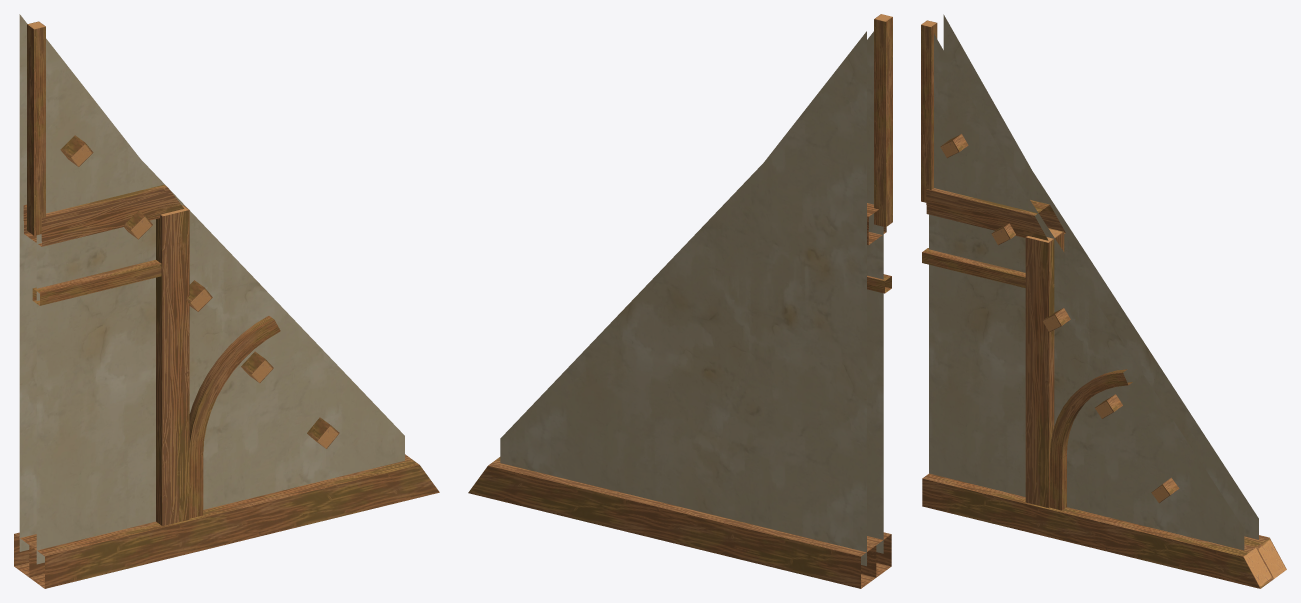
Rendered from Roof_Front_Brick6_Half_R.gltf.
3 renders of one model, left to right at view 1: azimuth 30°, elevation 25°; view 2: azimuth 150°, elevation 25°; view 3: azimuth 330°, elevation 25°, orthographic. The views are drawn at different scales.
Visible parts, largest first — view 1: Roof_Front_Brick6_Half_R; view 2: Roof_Front_Brick6_Half_R; view 3: Roof_Front_Brick6_Half_R.
Part boxes in pixels (box(x1,y1,x2,y2)): Roof_Front_Brick6_Half_R: box(14, 14, 439, 588); Roof_Front_Brick6_Half_R: box(468, 14, 892, 588); Roof_Front_Brick6_Half_R: box(921, 14, 1286, 588).
Bounding box in the file's own units: 3.4 × 4.52 × 0.4896.
2 materials, 2 textured.
